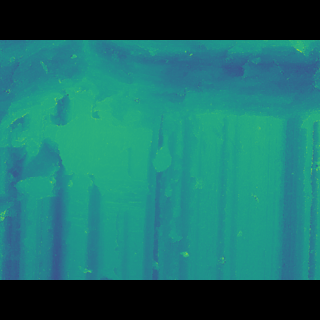Loch: (0, 70, 320, 131), (0, 128, 167, 214)
